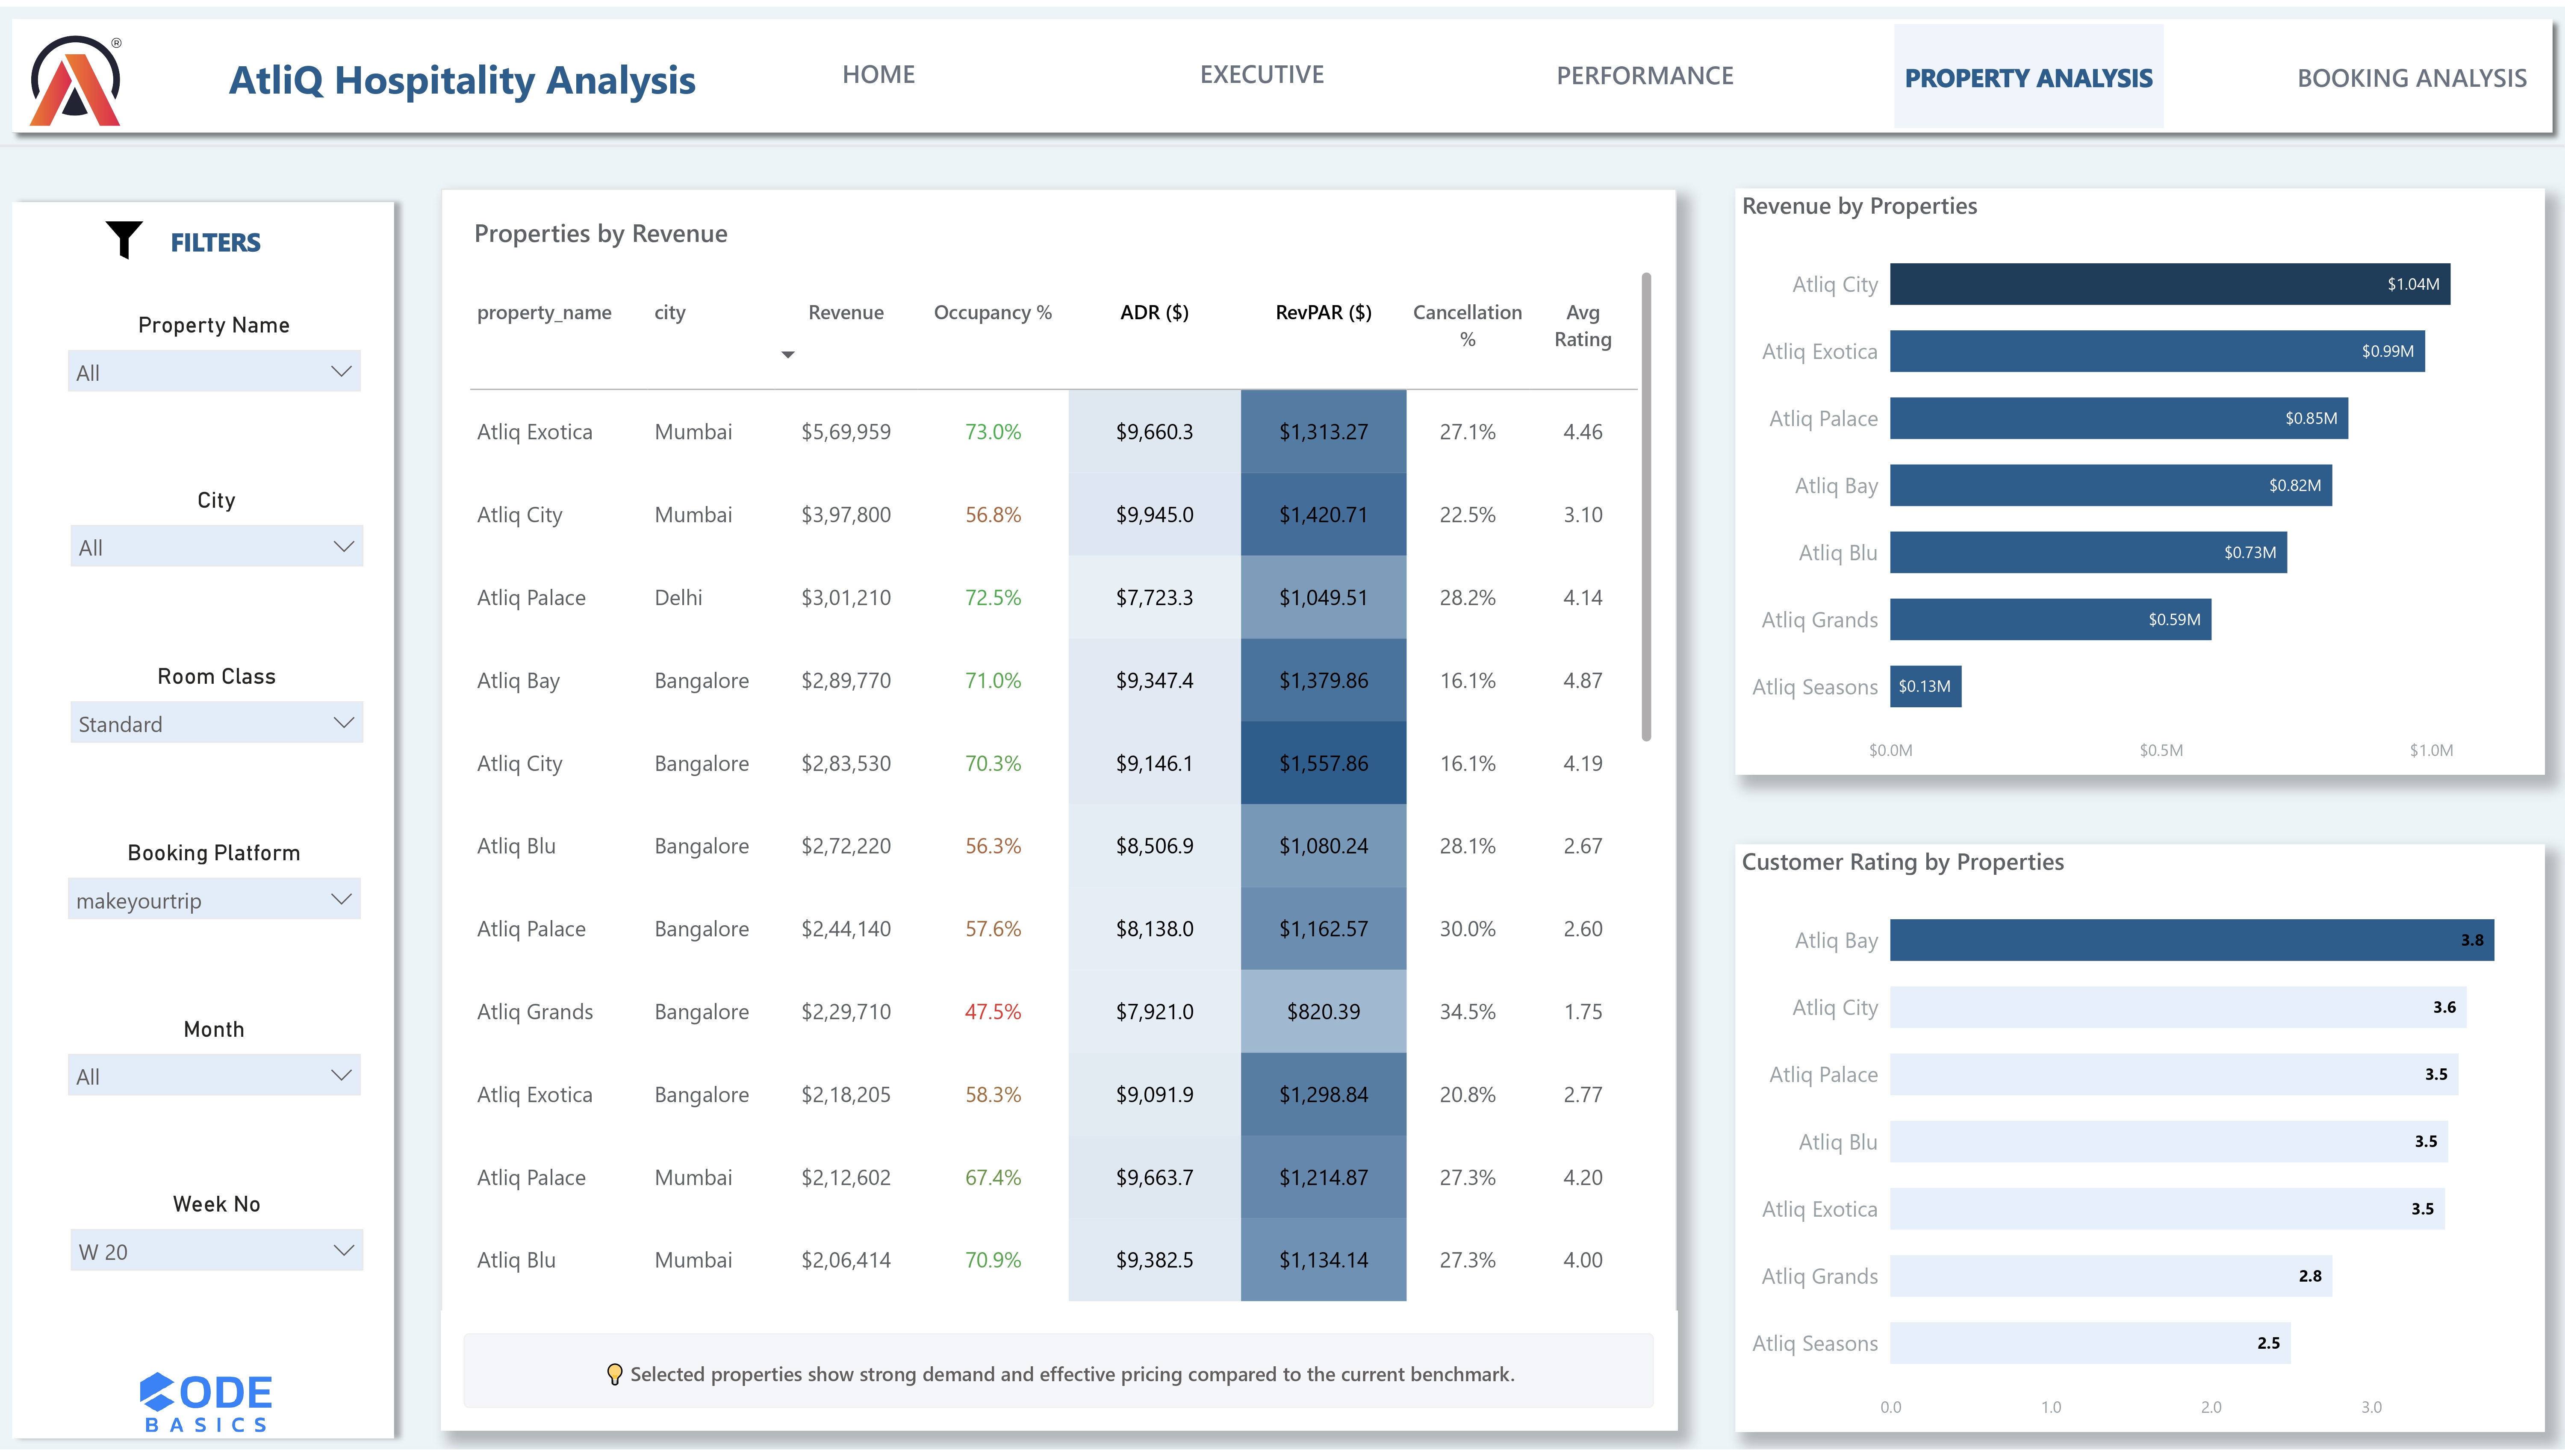

Layout of this report page (visuals, bound fields, positions):
{"tool":"powerbi","page":{"name":"Property Analysis","canvas":[1920,1080],"ordinal":3},"visuals":[{"type":"shape","title":"Left_Filter Pane","box":[0,137,304,944],"z":0},{"type":"shape","title":"Top_Nav Bar","box":[0,0,1919.7,103.3],"z":1000},{"type":"shape","title":"Back: Matrix","box":[329.5,136.2,925.1,929.9],"z":2000},{"type":"shape","title":"Divider Line","box":[0,86.9,1919.7,34.4],"z":3000},{"type":"image","title":"Atliq Logo","box":[21.3,13.1,72.1,83.6],"z":4000},{"type":"shape","title":"Title: Table Visual","box":[345.3,144.2,467.3,49.1],"z":5000},{"type":"image","title":"CB Logo","box":[93.3,1021.7,121.7,45],"z":6000},{"type":"shape","title":"Title text","box":[160.7,13.1,370.5,78.7],"z":7000},{"type":"cardVisual","title":"Insight text","fields":{"Data":["Key Measures.Property Insight"]},"box":[329.6,976.2,925.8,90.1],"z":8000},{"type":"shape","title":"Filters text","box":[101,156,121,38],"z":9000},{"type":"image","title":"Filter Icon","box":[74,156,38,38],"z":10000},{"type":"slicer","title":"Property Name","fields":{"Values":["dim_hotels.property_name"]},"box":[26.2,217.5,253.8,98.8],"z":11000},{"type":"slicer","title":"Booking Platform","fields":{"Values":["fact_bookings.booking_platform"]},"box":[26.2,612.8,253.8,98.8],"z":12000},{"type":"slicer","title":"Week No","fields":{"Values":["dim_date.week no"]},"box":[27.5,876.2,253.8,98.8],"z":13000},{"type":"slicer","title":"Room Class","fields":{"Values":["dim_rooms.room_class"]},"box":[27.5,481,253.8,98.8],"z":14000},{"type":"slicer","title":"City","fields":{"Values":["dim_hotels.city"]},"box":[27.5,349.2,253.8,98.8],"z":15000},{"type":"slicer","title":"Month","fields":{"Values":["dim_date.mmm yy"]},"box":[26.2,744.5,253.8,98.8],"z":16000},{"type":"actionButton","title":"HOME Button","box":[557.4,13.1,201.6,73.8],"z":17000},{"type":"actionButton","title":"EXECUTIVE Button","box":[844.4,13.1,201.6,73.8],"z":18000},{"type":"actionButton","title":"PERFORMANCE Button","box":[1131.4,12.5,201.1,77.9],"z":19000},{"type":"actionButton","title":"PROPERTY Button","box":[1417.9,13.3,201.7,78.3],"z":20000},{"type":"actionButton","title":"BOOKING Button","box":[1705,11.7,201.7,80],"z":21000},{"type":"clusteredBarChart","title":"Customer Rating by Properties","fields":{"Category":["dim_hotels.property_name"],"Y":["Key Measures.Average Rating"]},"box":[1298.6,626.7,606.4,439.6],"z":22000},{"type":"clusteredBarChart","title":"Revenue by Properties","fields":{"Category":["dim_hotels.property_name"],"Y":["Key Measures.Total Revenue"]},"box":[1298.6,135.6,606.4,439],"z":23000},{"type":"tableEx","title":"Table Visual","fields":{"Values":["dim_hotels.property_name","dim_hotels.city","Key Measures.Total Revenue","Key Measures.Occupancy %","Key Measures.ADR (Average Daily Rate)","Key Measures.RevPAR (Revenue Per Available Room)","Key Measures.Cancellation %","Key Measures.Average Rating"]},"box":[346.1,193.3,896.4,781],"z":23500}]}

Visuals, with their boxes in screenshot pixels (x1, y1, x2, y2), scaled from the page's 1920x1080 canvas onto the 2565x1456 screenshot:
"Left_Filter Pane" shape: [left=0, top=185, right=406, bottom=1456]
"Top_Nav Bar" shape: [left=0, top=0, right=2565, bottom=139]
"Back: Matrix" shape: [left=440, top=184, right=1676, bottom=1437]
"Divider Line" shape: [left=0, top=117, right=2565, bottom=164]
"Atliq Logo" image: [left=29, top=18, right=125, bottom=130]
"Title: Table Visual" shape: [left=461, top=194, right=1085, bottom=261]
"CB Logo" image: [left=125, top=1377, right=287, bottom=1438]
"Title text" shape: [left=215, top=18, right=710, bottom=124]
"Insight text" cardVisual: [left=440, top=1316, right=1677, bottom=1438]
"Filters text" shape: [left=135, top=210, right=297, bottom=262]
"Filter Icon" image: [left=99, top=210, right=150, bottom=262]
"Property Name" slicer: [left=35, top=293, right=374, bottom=427]
"Booking Platform" slicer: [left=35, top=826, right=374, bottom=959]
"Week No" slicer: [left=37, top=1181, right=376, bottom=1315]
"Room Class" slicer: [left=37, top=648, right=376, bottom=782]
"City" slicer: [left=37, top=471, right=376, bottom=604]
"Month" slicer: [left=35, top=1004, right=374, bottom=1137]
"HOME Button" actionButton: [left=745, top=18, right=1014, bottom=117]
"EXECUTIVE Button" actionButton: [left=1128, top=18, right=1397, bottom=117]
"PERFORMANCE Button" actionButton: [left=1512, top=17, right=1780, bottom=122]
"PROPERTY Button" actionButton: [left=1894, top=18, right=2164, bottom=124]
"BOOKING Button" actionButton: [left=2278, top=16, right=2547, bottom=124]
"Customer Rating by Properties" clusteredBarChart: [left=1735, top=845, right=2545, bottom=1438]
"Revenue by Properties" clusteredBarChart: [left=1735, top=183, right=2545, bottom=775]
"Table Visual" tableEx: [left=463, top=261, right=1660, bottom=1314]
